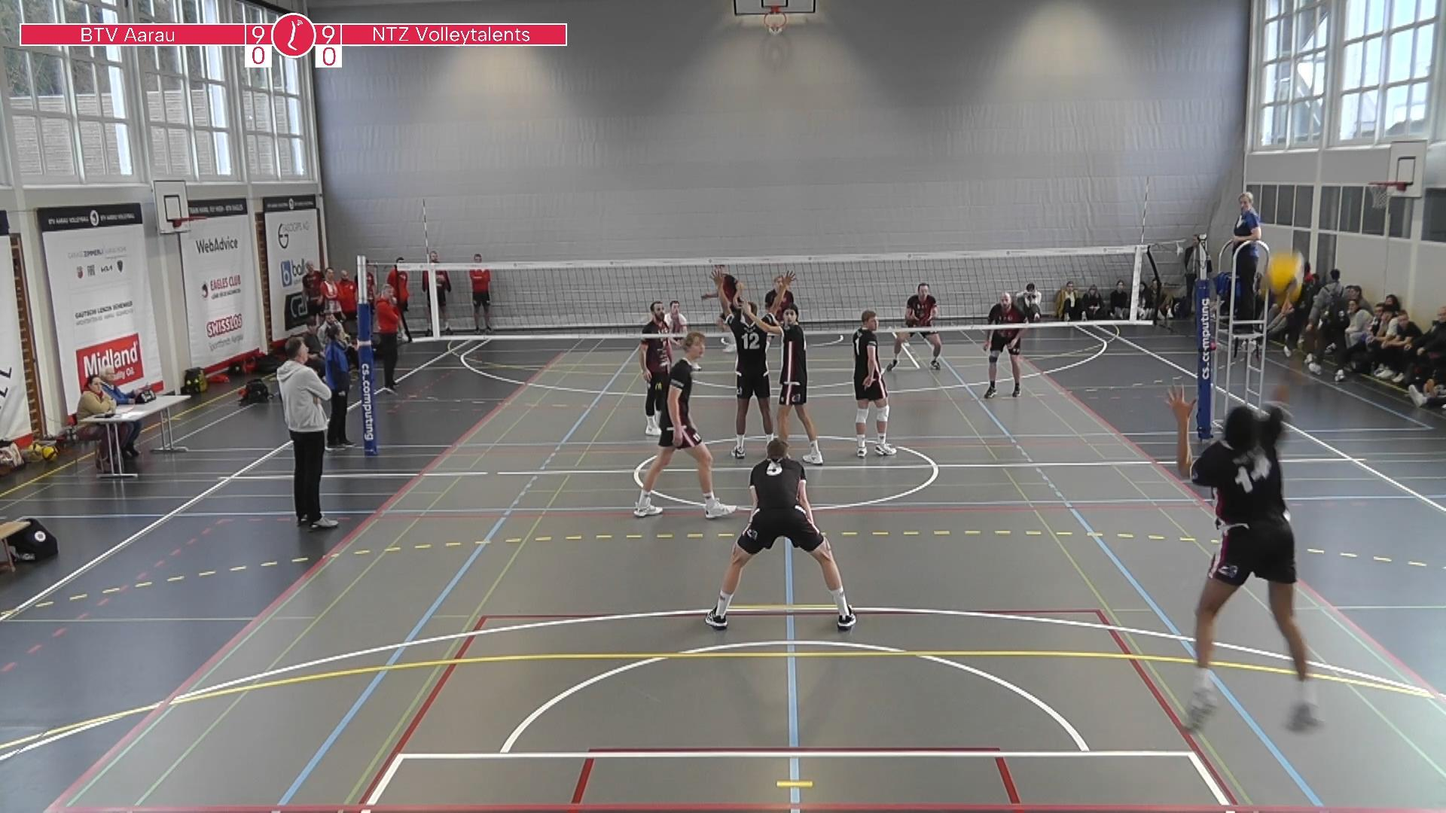Player: (706, 439, 856, 630), (634, 331, 735, 519), (745, 304, 823, 464), (715, 276, 773, 458), (853, 311, 896, 457), (886, 283, 941, 370), (984, 292, 1027, 397), (639, 301, 671, 435), (701, 265, 739, 352), (764, 270, 796, 321), (665, 300, 688, 346)
Serve: (1173, 358, 1328, 730)
ball: (1258, 245, 1305, 307)
